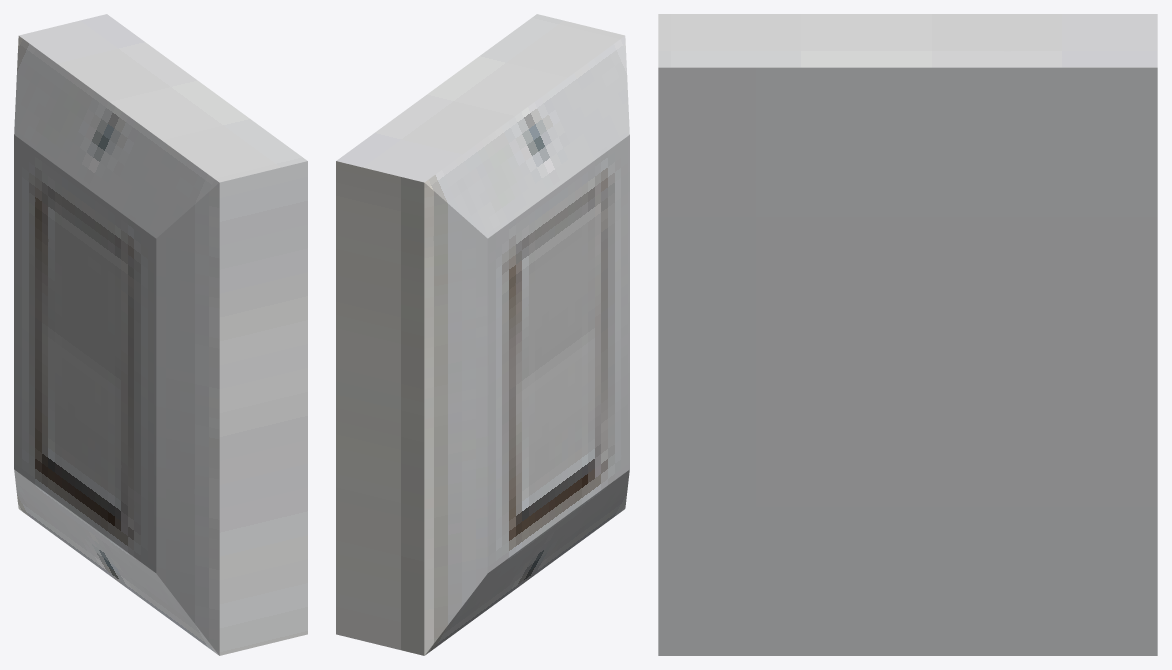
The model's file is light switch.fbx.
The picture shows the model from 3 angles, left to right: view 1: azimuth 30°, elevation 25°; view 2: azimuth 150°, elevation 25°; view 3: azimuth 270°, elevation 25°; orthographic projection. The views are drawn at different scales.
Parts seen in each view (by area): view 1: Cube; view 2: Cube; view 3: Cube.
Boxes of the visible parts, x1,y1,x2,y2 form: Cube: (14, 14, 307, 655); Cube: (336, 14, 629, 655); Cube: (658, 14, 1157, 655).
Bounding box in the file's own units: 10.06 × 37.21 × 28.62.
